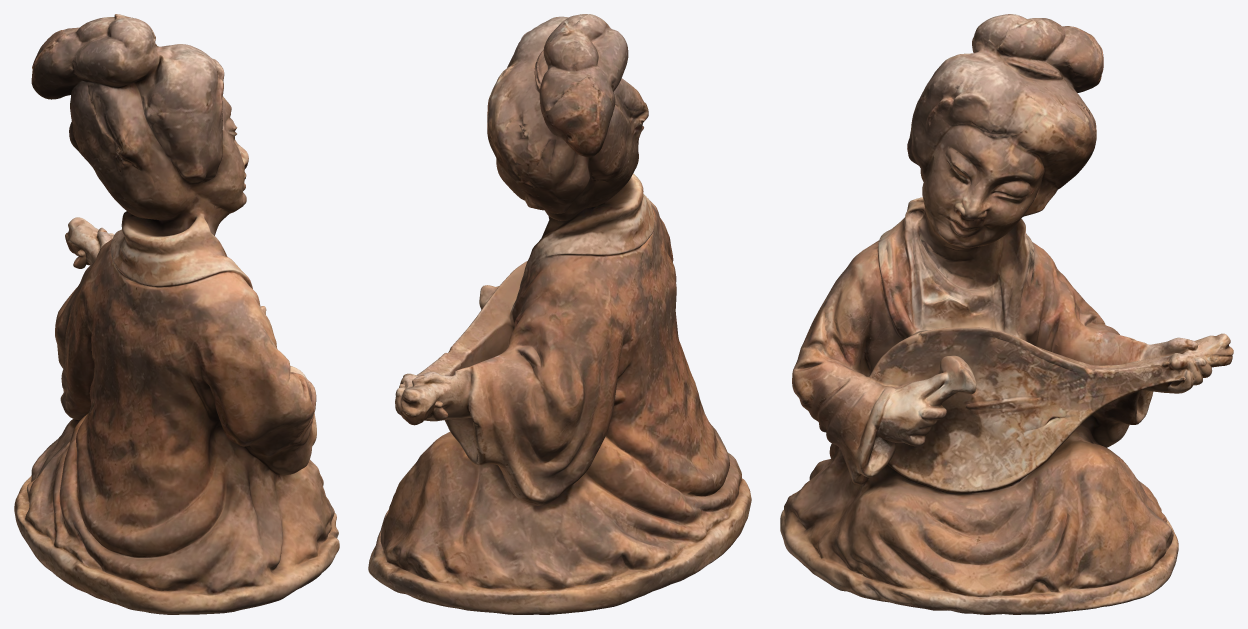
Rendered from pipa-figurine-web-mobile.glb.
3 views of the same model, side by side, from view 1: azimuth 30°, elevation 25°; view 2: azimuth 150°, elevation 25°; view 3: azimuth 270°, elevation 25° (orthographic). The views are drawn at different scales.
Parts seen in each view (by area): view 1: tripo_node_8b8ca17e-7261-4cbe-82ad-aca870084602; view 2: tripo_node_8b8ca17e-7261-4cbe-82ad-aca870084602; view 3: tripo_node_8b8ca17e-7261-4cbe-82ad-aca870084602.
Boxes of the visible parts, box(x1,y1,x2,y2) form: tripo_node_8b8ca17e-7261-4cbe-82ad-aca870084602: box(14, 14, 339, 614); tripo_node_8b8ca17e-7261-4cbe-82ad-aca870084602: box(368, 14, 751, 614); tripo_node_8b8ca17e-7261-4cbe-82ad-aca870084602: box(780, 14, 1233, 614).
Size of the model in its own units: 0.5396 by 0.9811 by 0.7782.
1 material, 1 textured.
